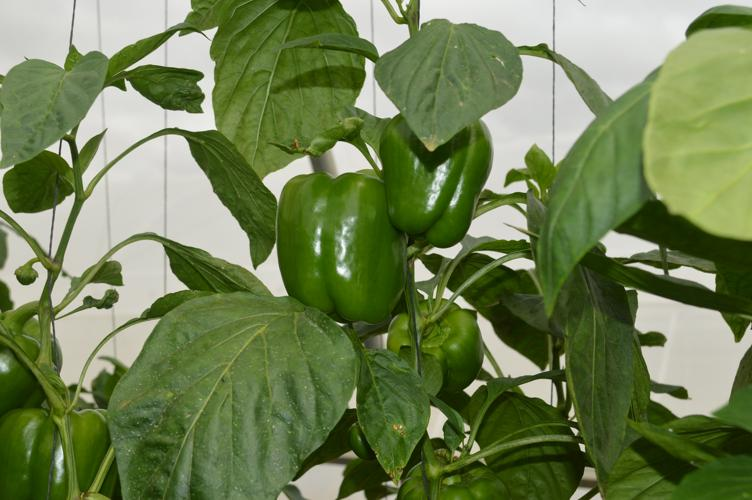BellPepper: (279, 172, 410, 326), (382, 111, 493, 252), (1, 408, 113, 499), (391, 299, 485, 394), (1, 320, 66, 410), (391, 454, 499, 500)
